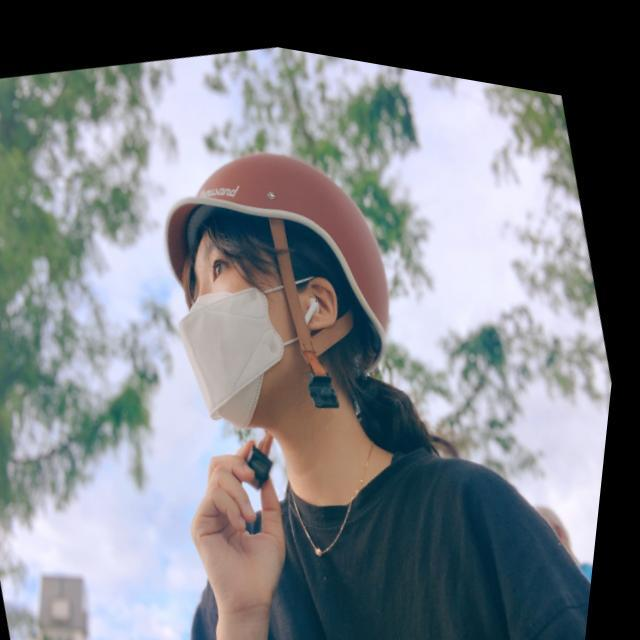Helmet: (161, 149, 395, 436)
